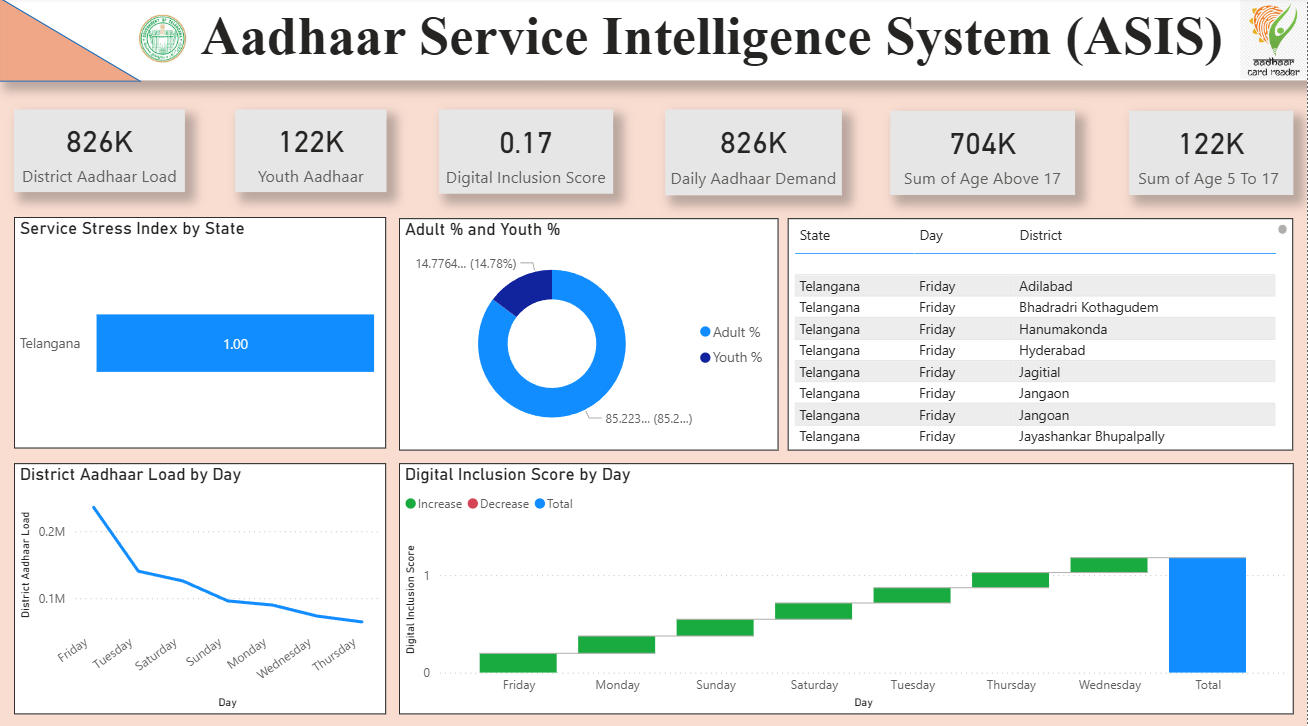

Layout of this report page (visuals, bound fields, positions):
{"tool":"powerbi","page":{"name":"UIDAI 1 ","canvas":[1280,720],"ordinal":0},"visuals":[{"type":"textbox","box":[0,0,1280,81.4],"z":0},{"type":"image","box":[123.7,15,73.4,51.6],"z":1000},{"type":"image","box":[1214.3,0,65.7,81.4],"z":2000},{"type":"shape","box":[0,0,140,82.9],"z":3000},{"type":"card","fields":{"Values":["Sum(UIDAI DATA.Age 5 To 17 )"]},"box":[1106,111.1,160.5,82.3],"z":4000},{"type":"card","fields":{"Values":["Sum(UIDAI DATA.Age Above 17)"]},"box":[871.4,111.1,181.1,82.3],"z":5000},{"type":"card","fields":{"Values":["UIDAI DATA.Daily Aadhaar Demand"]},"box":[651.8,109.8,172.9,83.7],"z":6000},{"type":"card","fields":{"Values":["UIDAI DATA.Digital Inclusion Score"]},"box":[430.9,109.8,170.2,82.3],"z":7000},{"type":"card","fields":{"Values":["UIDAI DATA.Youth Aadhaar"]},"box":[230.5,109.8,148.2,81],"z":8000},{"type":"card","fields":{"Values":["UIDAI DATA.District Aadhaar Load"]},"box":[15.1,109.8,167.4,81],"z":9000},{"type":"donutChart","fields":{"Y":["UIDAI DATA.Adult %","UIDAI DATA.Youth %","select"]},"box":[391.4,216.1,371,227],"z":10000},{"type":"funnel","fields":{"Category":["UIDAI DATA.State"],"Y":["UIDAI DATA.Service Stress Index"]},"box":[15.1,215.4,363.6,226.4],"z":11000},{"type":"waterfallChart","fields":{"Category":["UIDAI DATA.Day"],"Y":["UIDAI DATA.Digital Inclusion Score"]},"box":[391.4,456.7,875.3,246],"z":12000},{"type":"tableEx","fields":{"Values":["UIDAI DATA.State","UIDAI DATA.Day","UIDAI DATA.District"]},"box":[771.6,215.2,495.2,226.2],"z":13000},{"type":"lineChart","fields":{"Category":["UIDAI DATA.Day"],"Y":["UIDAI DATA.District Aadhaar Load"]},"box":[15,456.7,364.2,246],"z":14000}]}

Visuals, with their boxes in screenshot pixels (x1, y1, x2, y2), scaled from the page's 1280x720 canvas onto the 1308x726 screenshot:
textbox: box(0, 0, 1307, 82)
image: box(126, 15, 201, 67)
image: box(1241, 0, 1307, 82)
shape: box(0, 0, 143, 84)
card - Sum(UIDAI DATA.Age 5 To 17 ): box(1130, 112, 1294, 195)
card - Sum(UIDAI DATA.Age Above 17): box(890, 112, 1076, 195)
card - UIDAI DATA.Daily Aadhaar Demand: box(666, 111, 843, 195)
card - UIDAI DATA.Digital Inclusion Score: box(440, 111, 614, 194)
card - UIDAI DATA.Youth Aadhaar: box(236, 111, 387, 192)
card - UIDAI DATA.District Aadhaar Load: box(15, 111, 186, 192)
donutChart - UIDAI DATA.Adult % x UIDAI DATA.Youth %: box(400, 218, 779, 447)
funnel - UIDAI DATA.State x UIDAI DATA.Service Stress Index: box(15, 217, 387, 445)
waterfallChart - UIDAI DATA.Day x UIDAI DATA.Digital Inclusion Score: box(400, 461, 1294, 709)
tableEx - UIDAI DATA.State x UIDAI DATA.Day: box(788, 217, 1295, 445)
lineChart - UIDAI DATA.Day x UIDAI DATA.District Aadhaar Load: box(15, 461, 387, 709)
